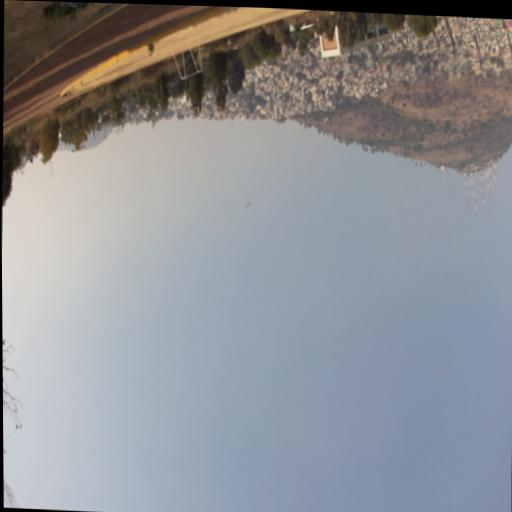drones: (245, 202, 251, 209)
